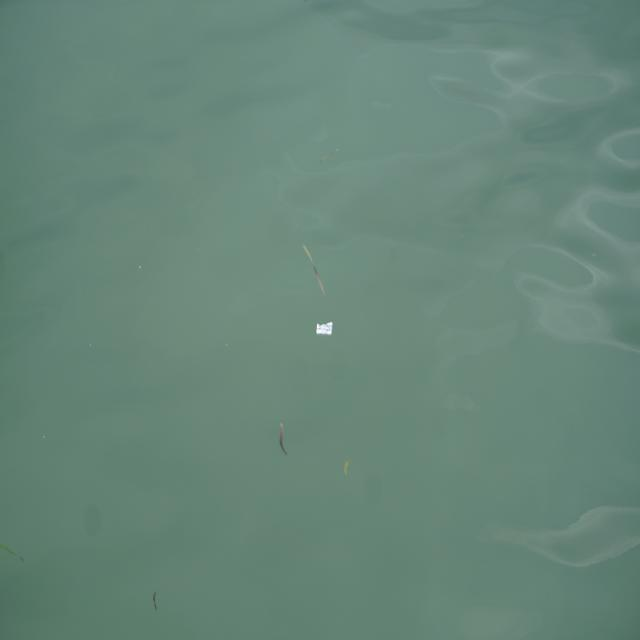Bungkus Makanan: (316, 317, 335, 341)
